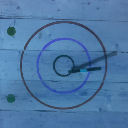Axe Tip: (68, 70, 79, 72)
